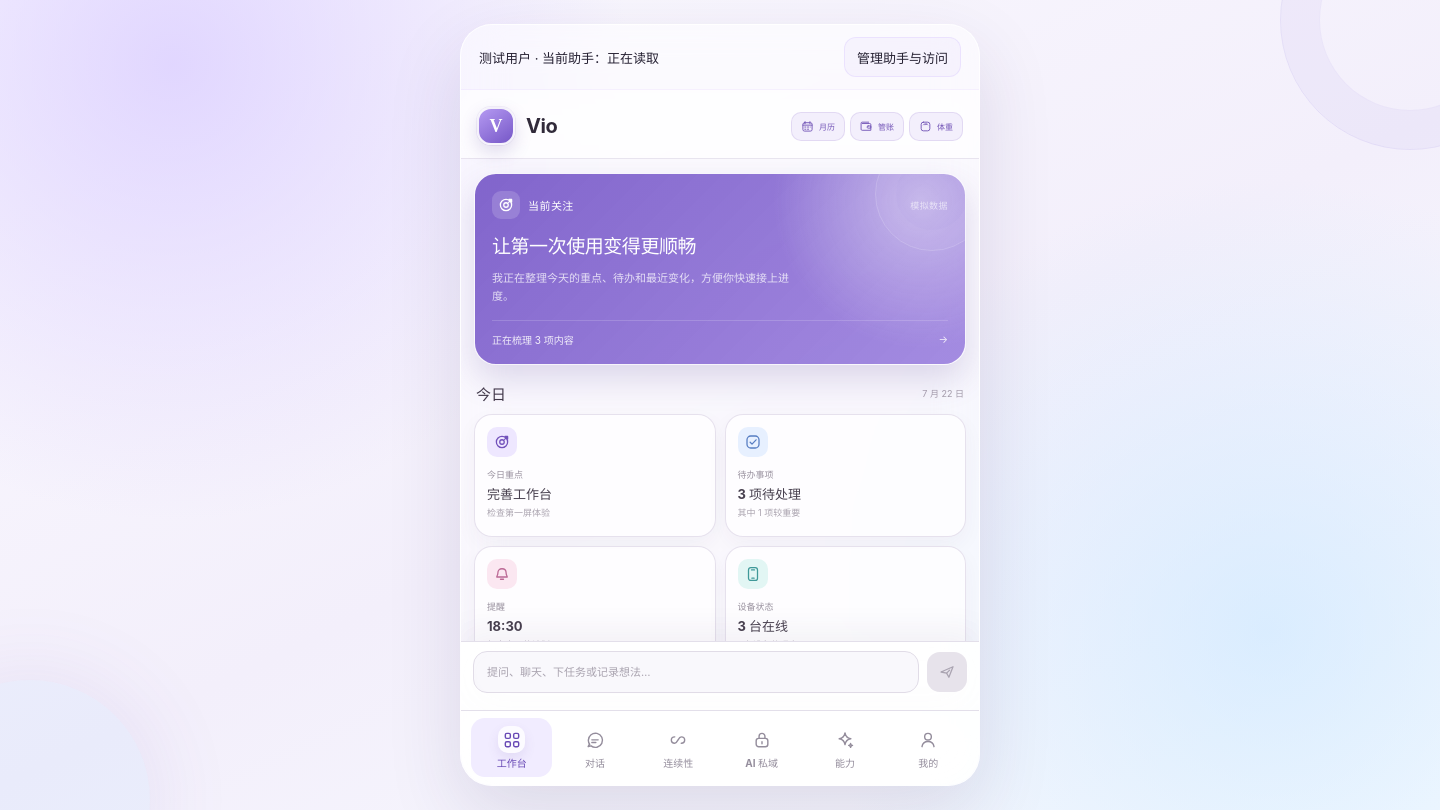
Scenario: R2 personal application entry › restores a server session in StrictMode once, preserves six tabs and quarantines old recovery data
Click the button "对话" at (595,748), box [554, 718, 636, 777]
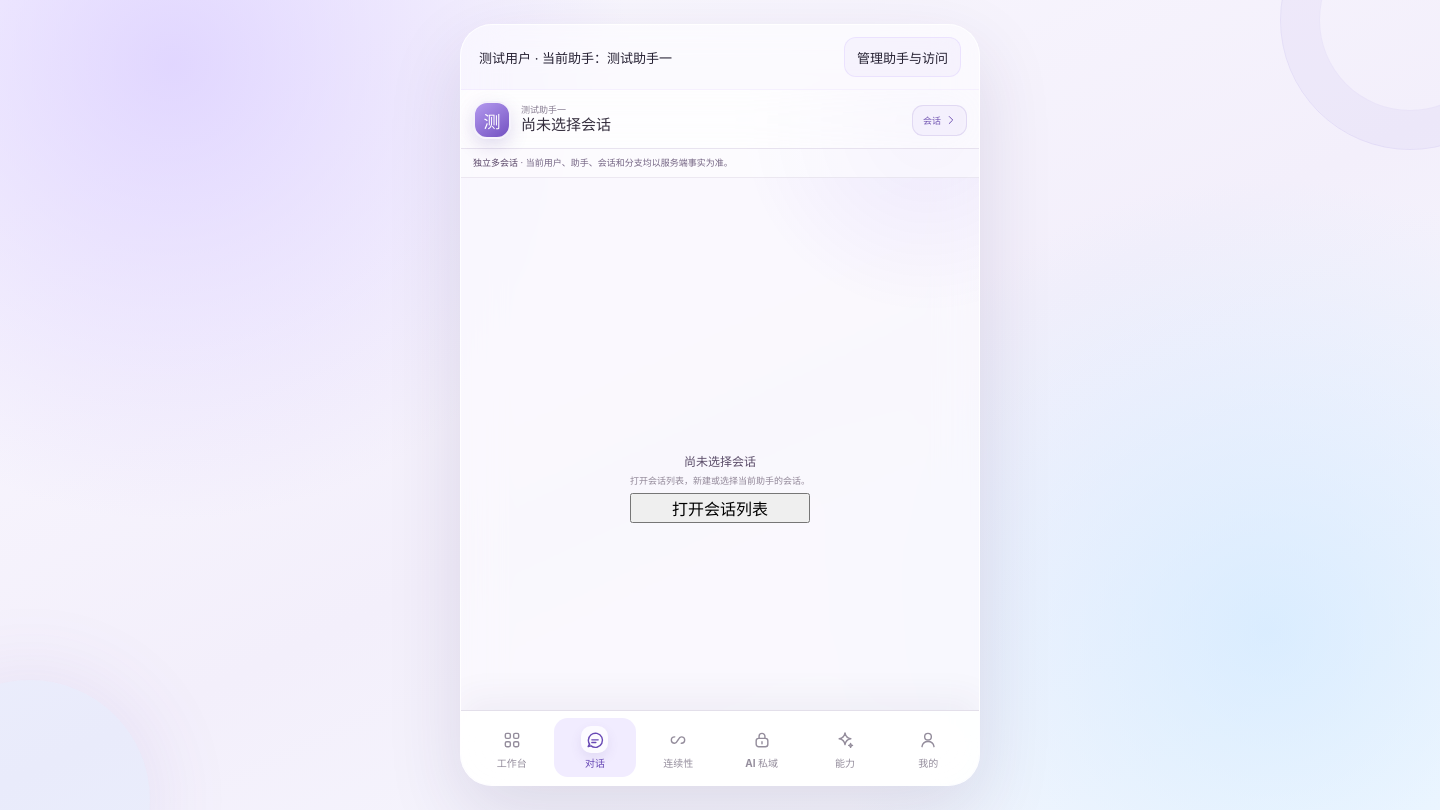
Expected: the text "独立多会话" is shown, [473, 157, 518, 168]
